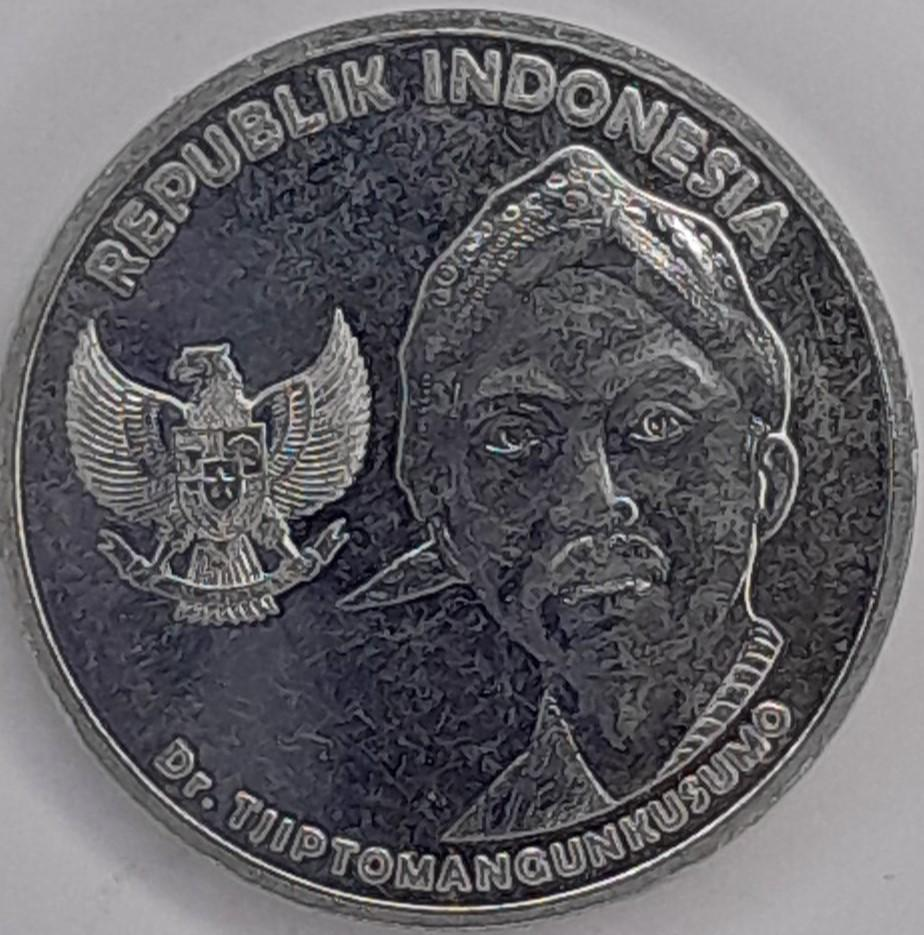coin_200_e2016: (0, 16, 924, 935)
